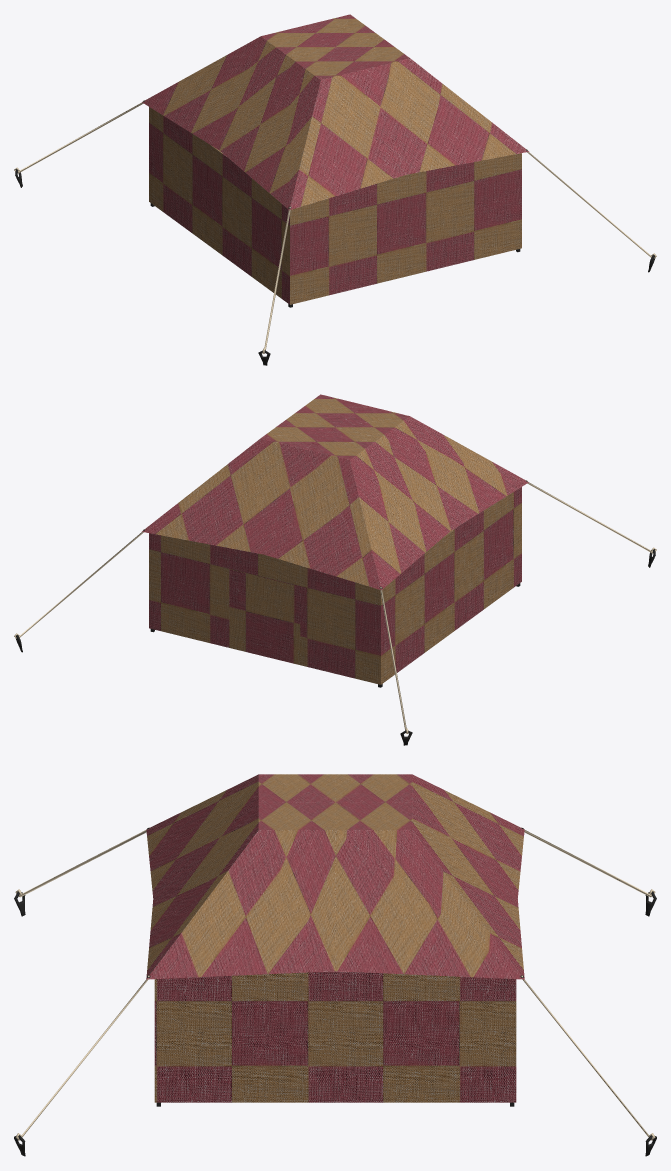
Rendered from G_TentClosed.fbx.
The picture shows the model from 3 angles, top to bottom: view 1: azimuth 30°, elevation 25°; view 2: azimuth 150°, elevation 25°; view 3: azimuth 270°, elevation 25°; orthographic projection. The views are drawn at different scales.
Parts seen in each view (by area): view 1: Tarp.001, Cube, Stakes.001; view 2: Tarp.001, Cube, Stakes.001; view 3: Tarp.001, Cube, Stakes.001.
Boxes of the visible parts, bbox=[...] form: Tarp.001: bbox=[142, 14, 528, 210]; Cube: bbox=[149, 107, 521, 304]; Stakes.001: bbox=[14, 100, 656, 365]; Tarp.001: bbox=[142, 394, 528, 590]; Cube: bbox=[149, 487, 521, 684]; Stakes.001: bbox=[14, 480, 656, 745]; Tarp.001: bbox=[146, 774, 524, 979]; Cube: bbox=[154, 971, 516, 1102]; Stakes.001: bbox=[14, 827, 656, 1156].
Size of the model in its own units: 577 by 253 by 631.
